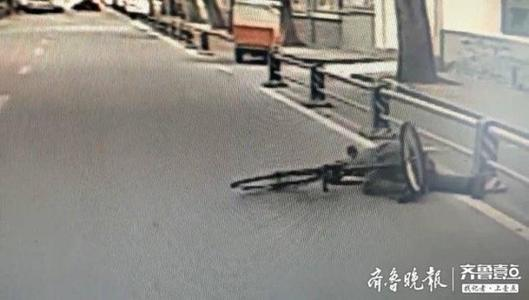fall: (305, 126, 508, 207)
